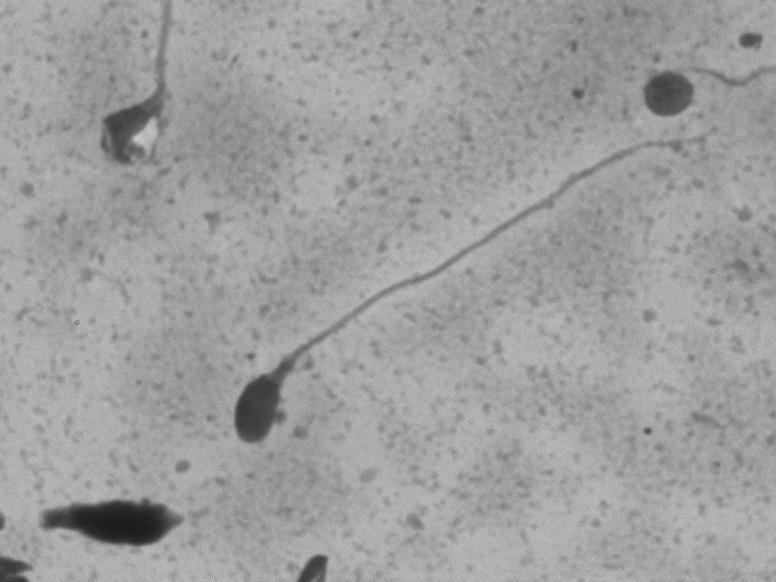Abnormal: (181, 123, 723, 472)
